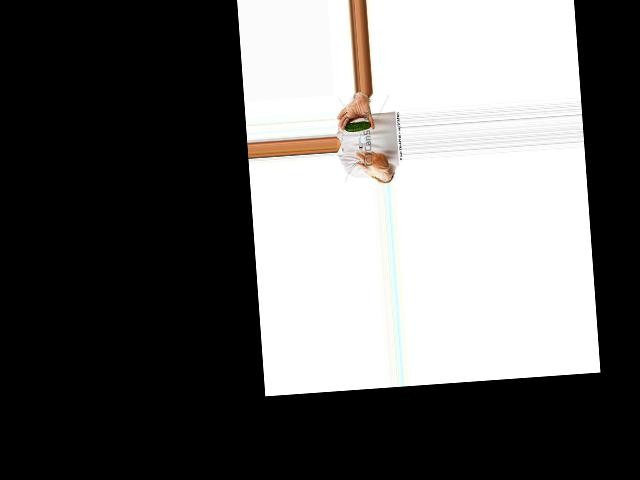cucumber: (344, 120, 372, 131)
